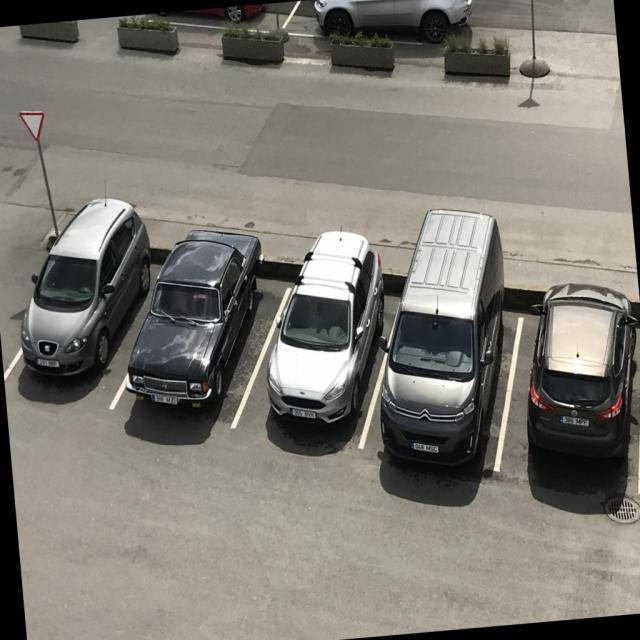space-occupied: (224, 263, 410, 489), (348, 280, 531, 505), (106, 246, 303, 454), (492, 284, 640, 518), (0, 218, 163, 416)
